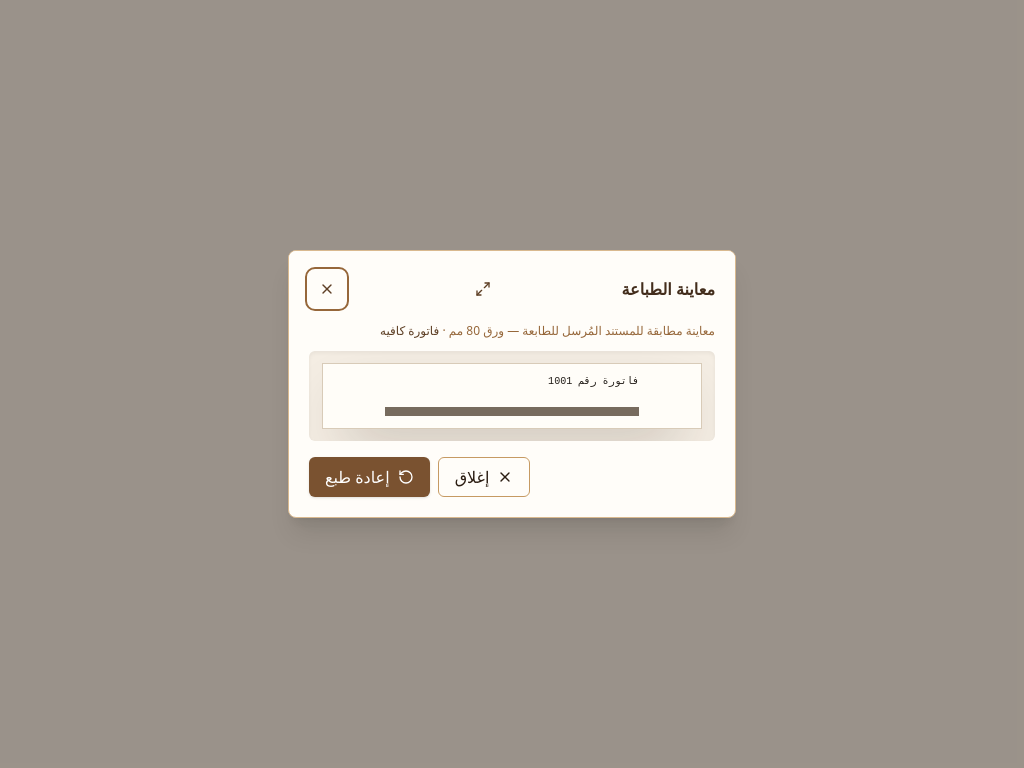
Scenario: PrintPreviewDialog › previews a persisted invoice and reprints that same invoice id
Expected: the text "فاتورة رقم 1001" is shown, [548,376,639,387]
Click the button "إعادة طبع".
click(369, 477)  # box [309,457,430,497]
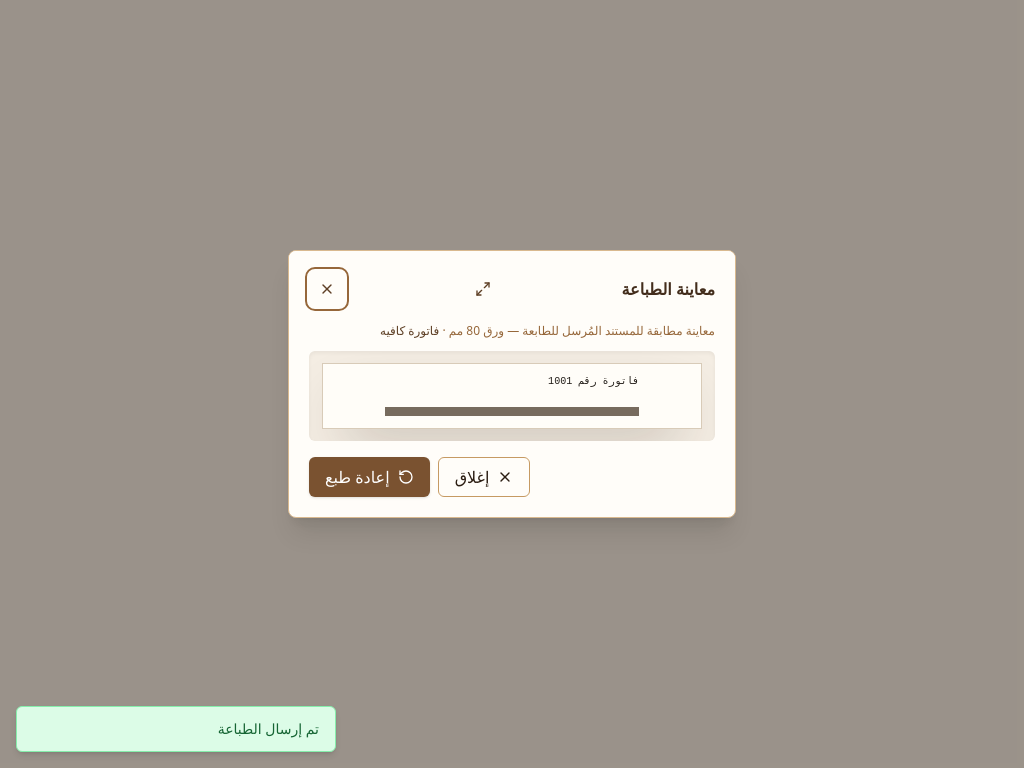
Expected: the text "تم إرسال الطباعة" is shown, [16,706,336,752]
